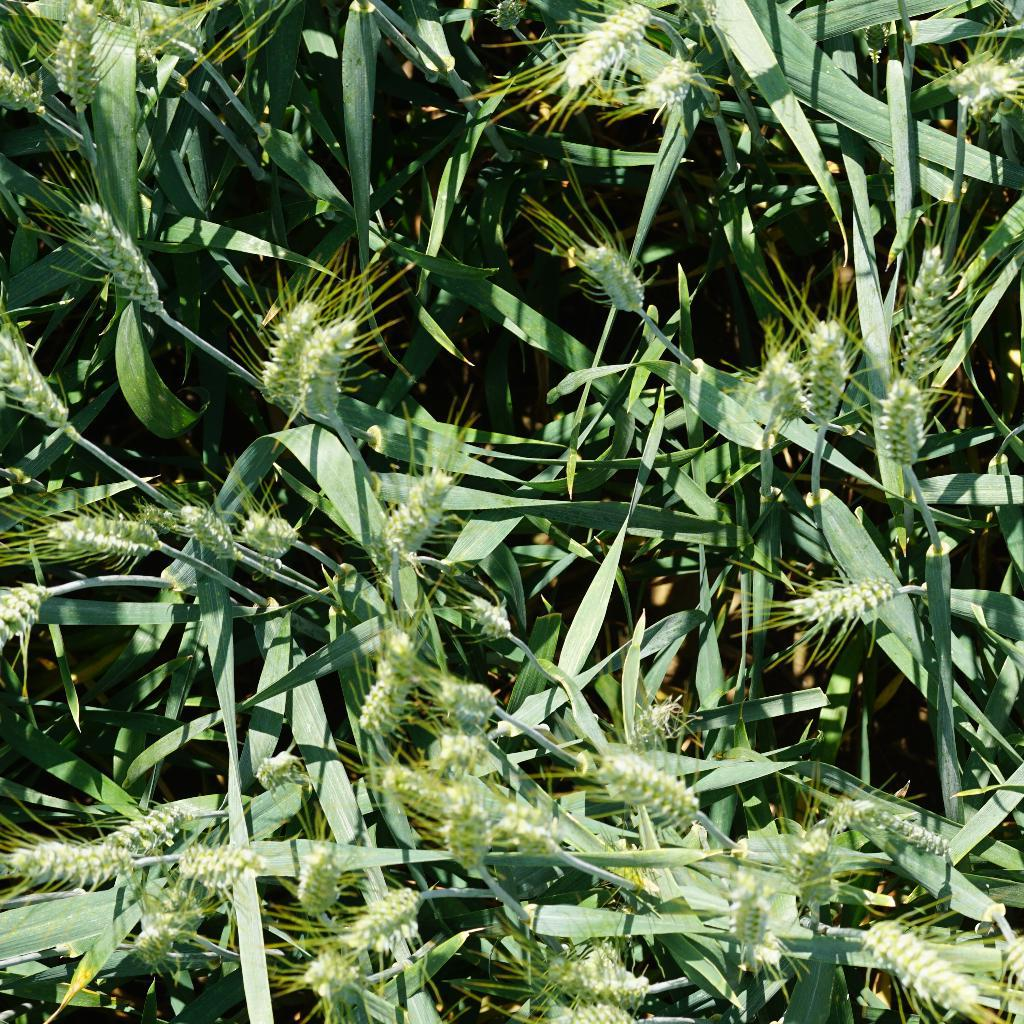0-0: (855, 910, 1011, 1024), (66, 193, 176, 318), (586, 750, 720, 833), (364, 459, 462, 570), (537, 0, 650, 94), (243, 275, 318, 407), (355, 613, 425, 747), (0, 321, 82, 433), (111, 886, 210, 974), (565, 216, 651, 317), (98, 0, 193, 91), (292, 307, 365, 425), (864, 374, 938, 486), (793, 301, 849, 448), (543, 938, 650, 1013), (840, 792, 953, 863), (785, 563, 896, 630), (766, 803, 845, 897), (38, 505, 171, 560), (366, 761, 470, 830), (51, 0, 108, 117), (743, 337, 804, 445), (93, 798, 201, 859), (10, 832, 142, 881), (432, 661, 511, 740), (904, 234, 950, 369), (351, 881, 436, 953), (164, 843, 275, 896), (499, 798, 586, 863), (724, 875, 780, 974), (935, 49, 1016, 116), (110, 1, 192, 67), (430, 791, 496, 871), (180, 500, 257, 567), (287, 843, 350, 923), (634, 41, 702, 112), (291, 948, 374, 1006), (428, 716, 501, 781), (615, 699, 707, 750), (0, 575, 73, 638), (231, 500, 314, 555), (0, 63, 64, 126), (358, 523, 432, 577), (249, 739, 318, 793), (462, 585, 526, 642), (858, 10, 892, 66), (486, 0, 538, 36), (132, 502, 181, 537)
